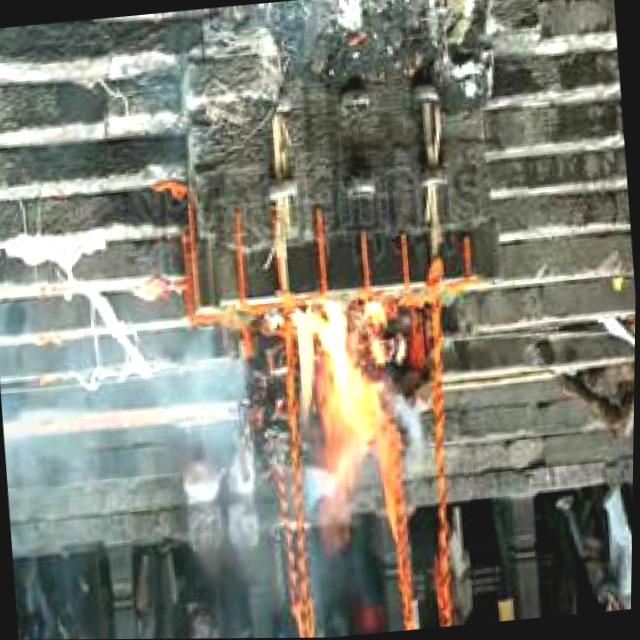Fire: (283, 297, 409, 529)
